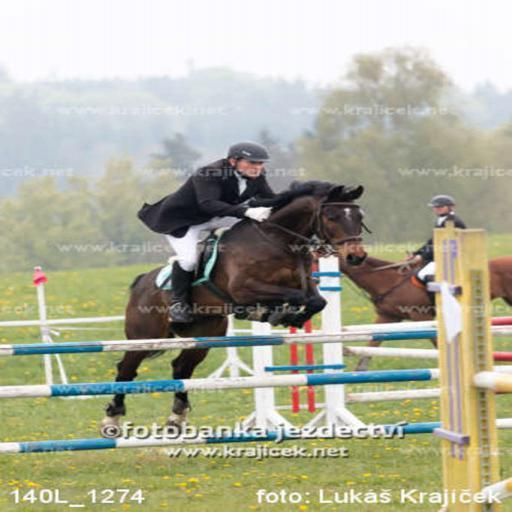horse: (98, 182, 368, 433), (342, 255, 510, 370)
